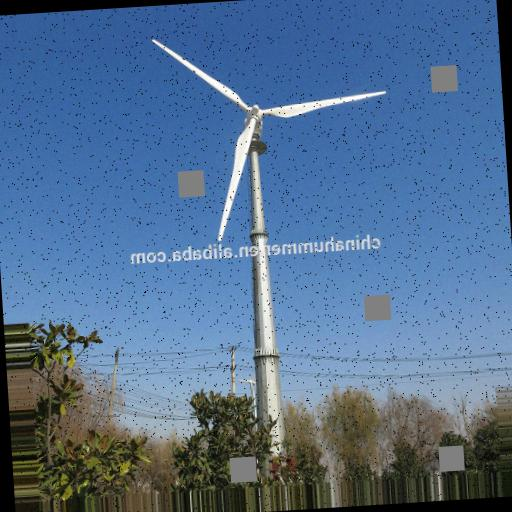wind turbine: (151, 38, 389, 451)
